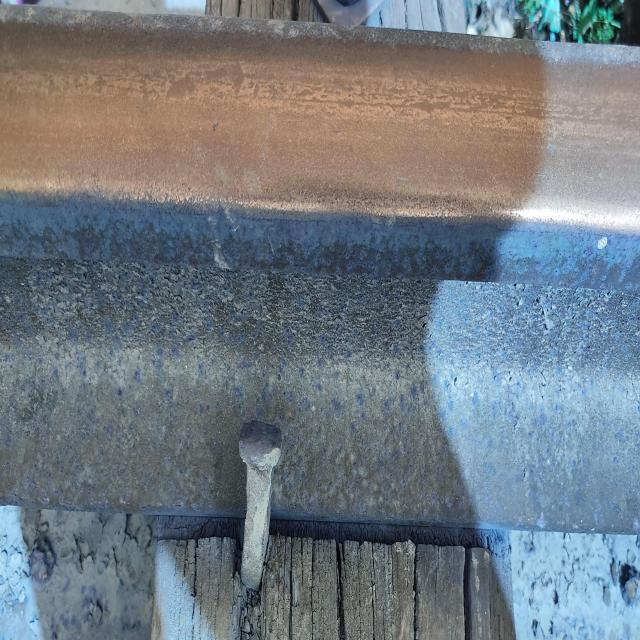Missing Fastener: (100, 295, 550, 640)
